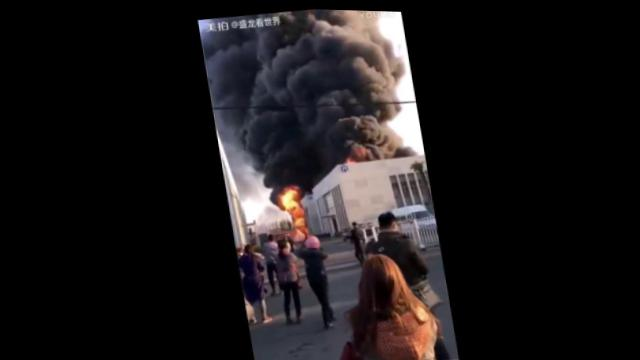fire: (276, 186, 297, 211), (287, 206, 305, 225)
